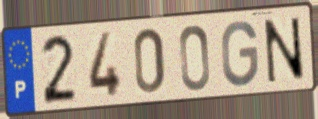0: (131, 25, 168, 98), (177, 22, 212, 94)
2: (38, 32, 81, 107)
4: (86, 29, 124, 100)
G: (220, 18, 261, 89)
N: (262, 15, 308, 85)
